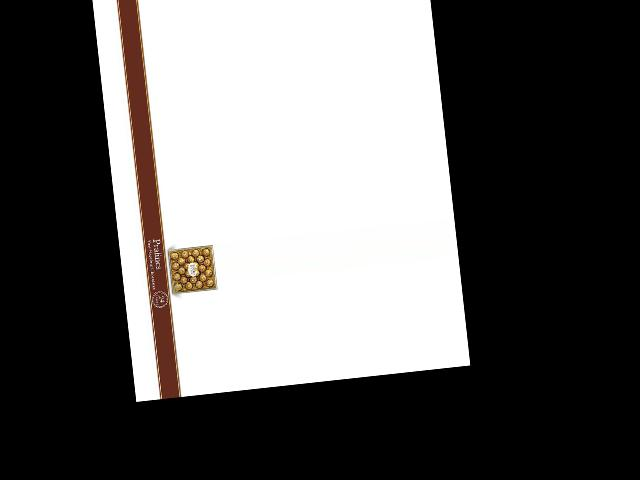chocolate: (165, 242, 220, 297)
